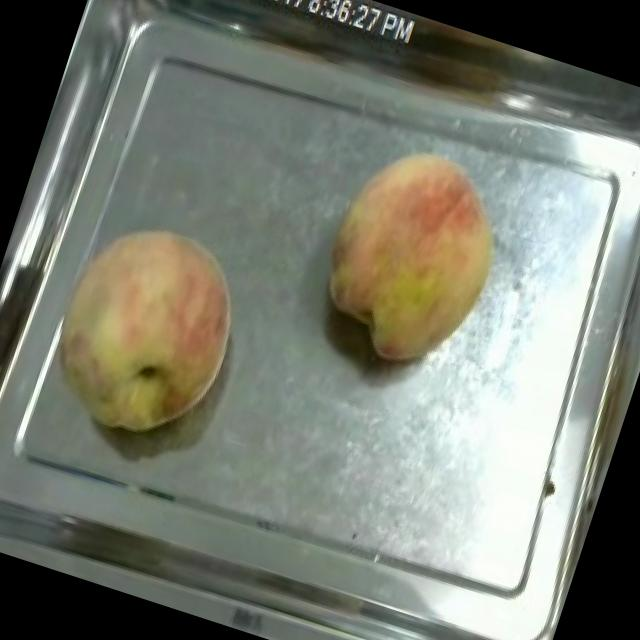Fruit: (19, 192, 269, 464), (292, 118, 536, 393)
